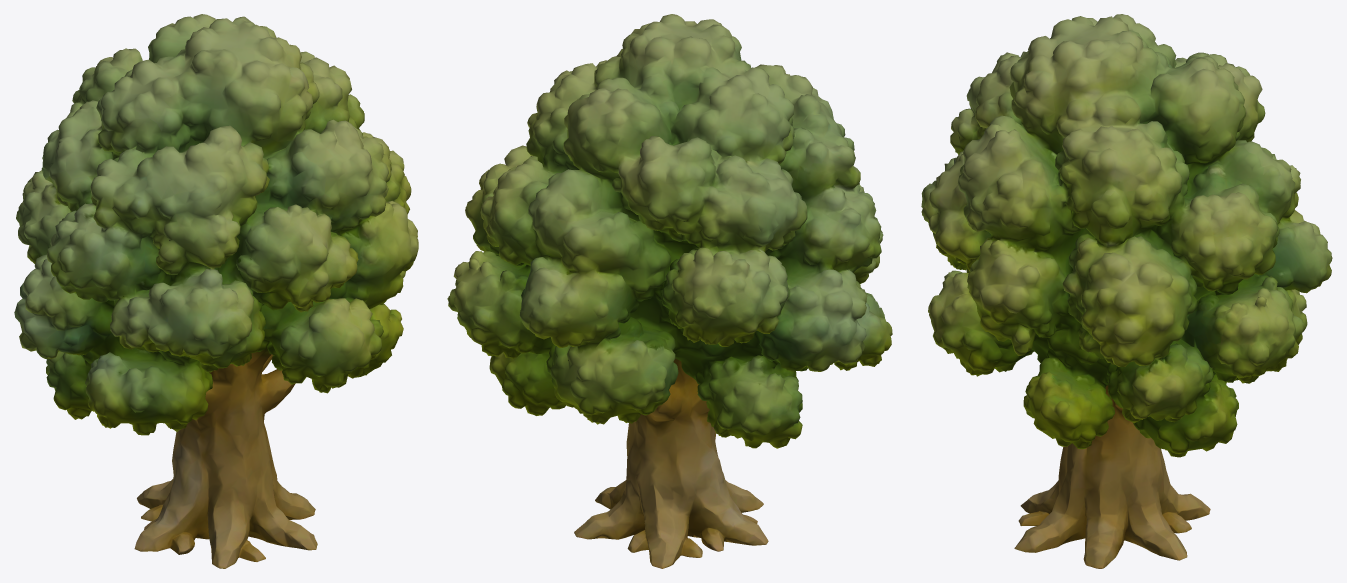
The model's file is nat_tree_oak_v1.glb.
3 views of the same model, side by side, from view 1: azimuth 30°, elevation 25°; view 2: azimuth 150°, elevation 25°; view 3: azimuth 270°, elevation 25° (orthographic).
Visible parts, largest first — view 1: tripo_node_fc168075-6300-42cf-9d77-3f85337bd231; view 2: tripo_node_fc168075-6300-42cf-9d77-3f85337bd231; view 3: tripo_node_fc168075-6300-42cf-9d77-3f85337bd231.
Part boxes in pixels (bbox=[...]): tripo_node_fc168075-6300-42cf-9d77-3f85337bd231: bbox=[14, 14, 418, 568]; tripo_node_fc168075-6300-42cf-9d77-3f85337bd231: bbox=[447, 14, 892, 568]; tripo_node_fc168075-6300-42cf-9d77-3f85337bd231: bbox=[921, 14, 1332, 568].
Bounding box in the file's own units: 0.8004 × 0.9812 × 0.7295.
1 material, 1 textured.
